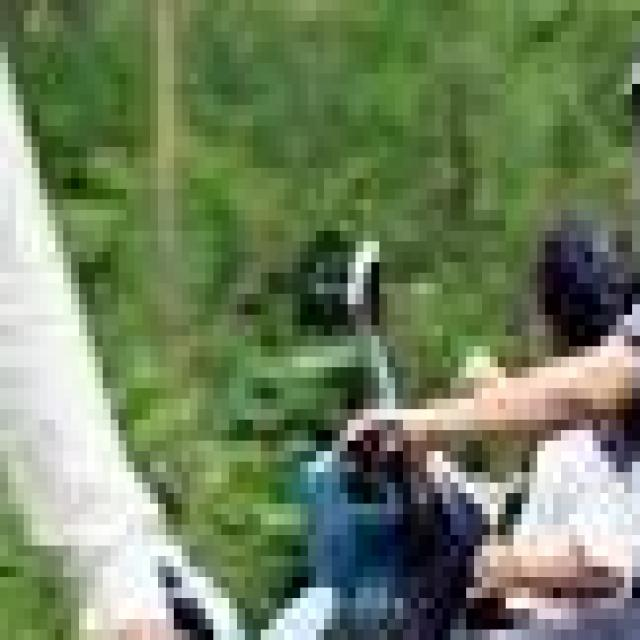bike: (16, 367, 640, 640)
